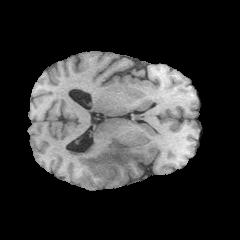glioma: (67, 137, 131, 178)
